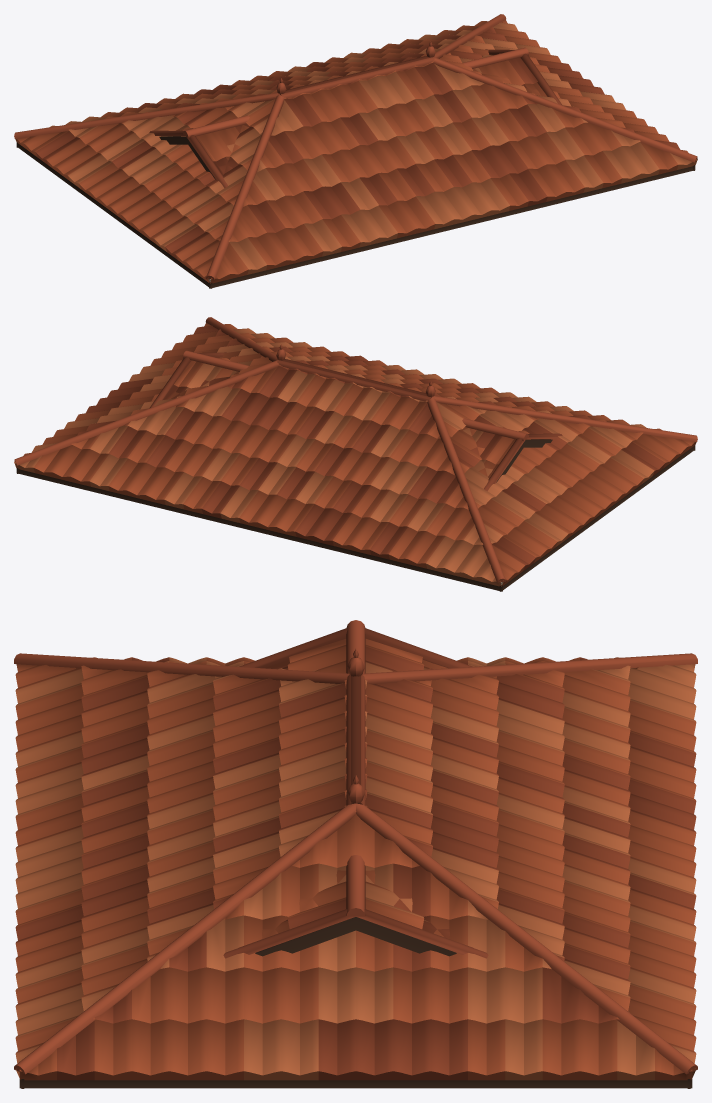
File: kit_roofs.glb
3 views of the same model, one above another, from view 1: azimuth 30°, elevation 25°; view 2: azimuth 150°, elevation 25°; view 3: azimuth 270°, elevation 25° (orthographic). The views are drawn at different scales.
Visible parts, largest first — view 1: roof_hip_13x9, roof_gable_9x7; view 2: roof_hip_13x9, roof_gable_9x7; view 3: roof_hip_13x9, roof_gable_9x7.
Boxes of the visible parts, <box> form: roof_hip_13x9: <box>14,14,697,288</box>; roof_gable_9x7: <box>149,47,562,188</box>; roof_hip_13x9: <box>14,317,697,591</box>; roof_gable_9x7: <box>149,350,562,491</box>; roof_hip_13x9: <box>14,649,697,1088</box>; roof_gable_9x7: <box>223,620,488,958</box>.
Bounding box in the file's own units: 13.16 × 2.55 × 9.16.
